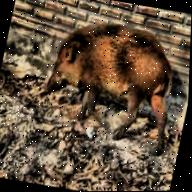boar: (19, 11, 192, 161)
